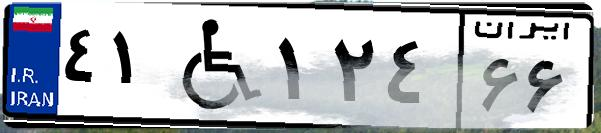1: (270, 28, 330, 110), (110, 28, 158, 98)
2: (330, 28, 385, 110)
4: (385, 28, 445, 110), (57, 26, 110, 100)
6: (475, 38, 525, 113), (525, 38, 570, 115)
ژ (معلولین و جانبازان): (158, 12, 270, 120)
